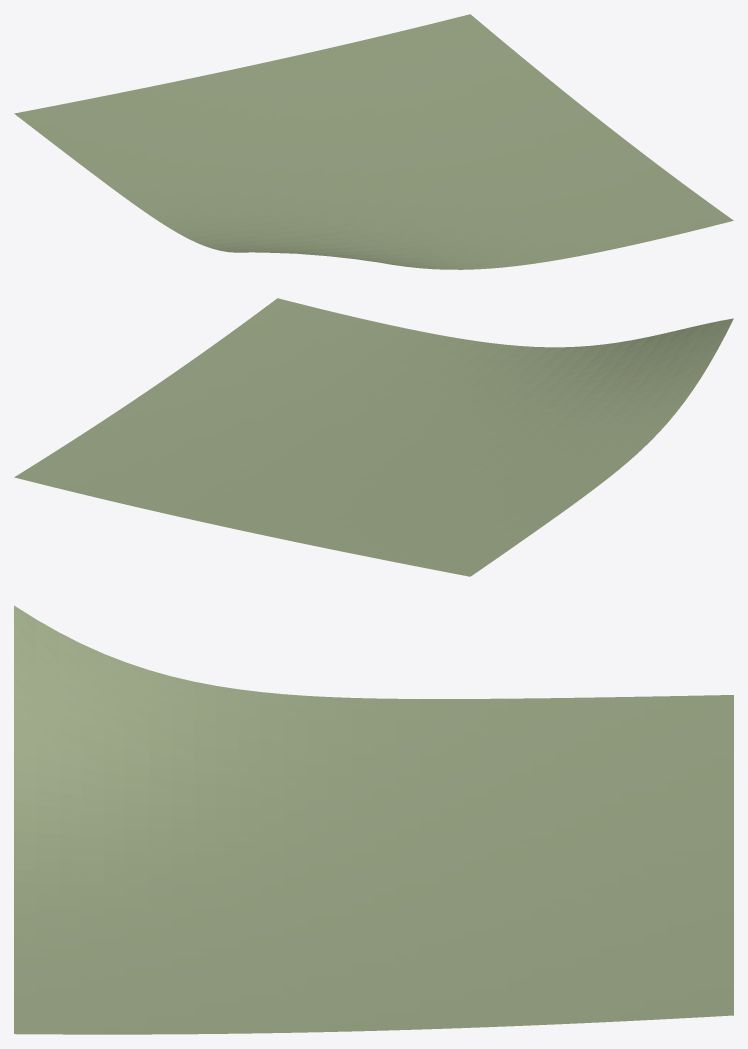
Rendered from canyon-5-2.glb.
The picture shows the model from 3 angles, top to bottom: view 1: azimuth 30°, elevation 25°; view 2: azimuth 150°, elevation 25°; view 3: azimuth 270°, elevation 25°; orthographic projection. The views are drawn at different scales.
Visible parts, largest first — view 1: canyon-5-2; view 2: canyon-5-2; view 3: canyon-5-2.
Part boxes in pixels (box(x1,y1,x2,y2)): canyon-5-2: box(14, 14, 733, 269); canyon-5-2: box(14, 298, 733, 576); canyon-5-2: box(14, 605, 733, 1034).
Size of the model in its own units: 128 by 24.59 by 128.
